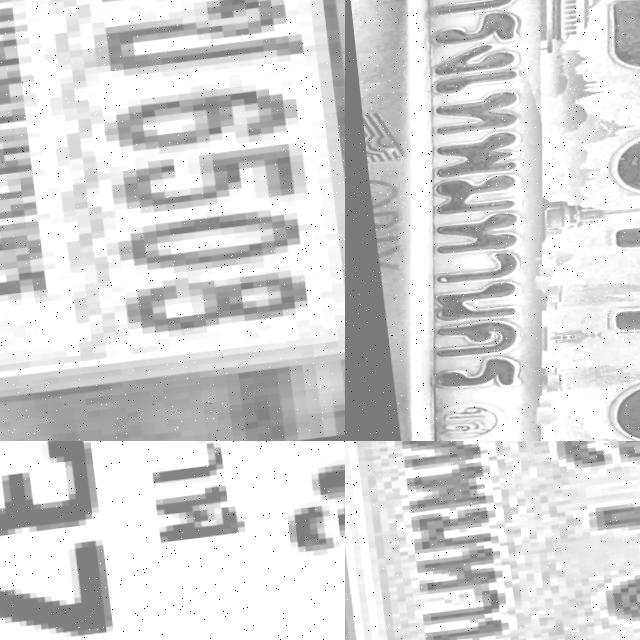license-plate: (0, 0, 345, 433), (345, 0, 640, 441), (0, 441, 345, 640), (345, 441, 640, 640)
